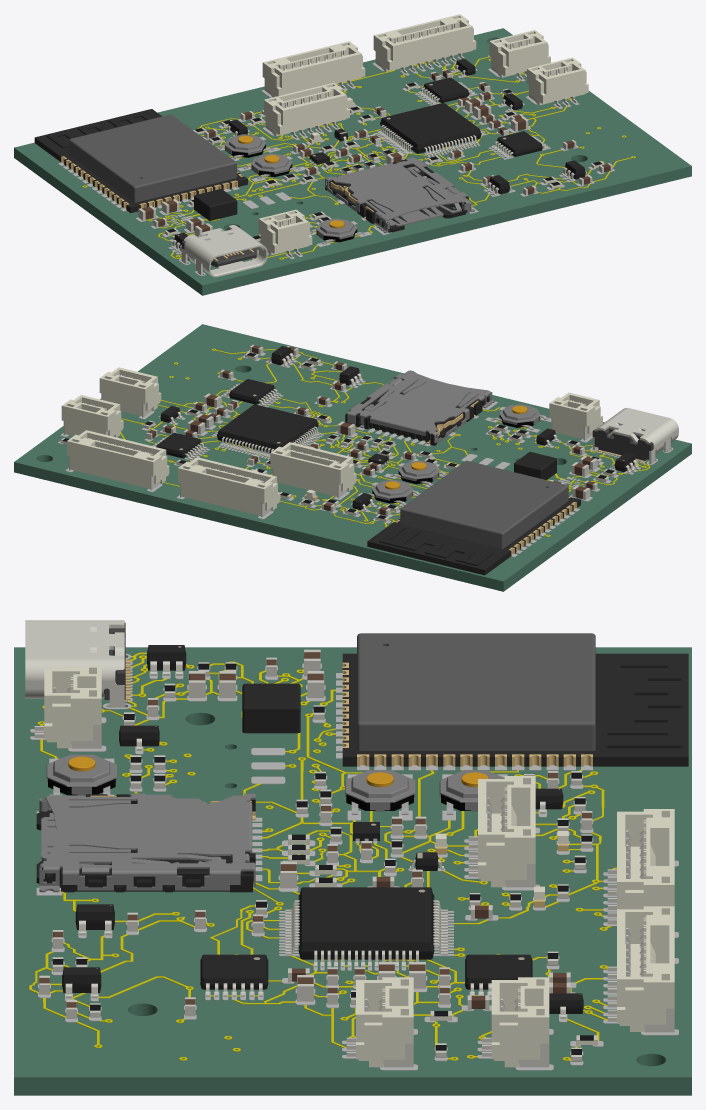
File: main.glb
3 views of the same model, one above another, from view 1: azimuth 30°, elevation 25°; view 2: azimuth 150°, elevation 25°; view 3: azimuth 270°, elevation 25° (orthographic). The views are drawn at different scales.
Visible parts, largest first — view 1: =>[0:1:1:45], =>[0:1:1:41], =>[0:1:1:15] (×2), =>[0:1:1:5], =>[0:1:1:43], =>[0:1:1:37] (×2), =>[0:1:1:42], =>[0:1:1:35], =>[0:1:1:11], =>[0:1:1:31], =>[0:1:1:21] (×3), =>[0:1:1:39] (+2 smaller); view 2: =>[0:1:1:45], =>[0:1:1:41], =>[0:1:1:15] (×2), =>[0:1:1:5], =>[0:1:1:43], =>[0:1:1:37] (×2), =>[0:1:1:42], =>[0:1:1:35], =>[0:1:1:11], =>[0:1:1:31], =>[0:1:1:21] (×3), =>[0:1:1:39] (+2 smaller); view 3: =>[0:1:1:45], =>[0:1:1:41], =>[0:1:1:5], =>[0:1:1:15] (×2), =>[0:1:1:43], =>[0:1:1:42], =>[0:1:1:35], =>[0:1:1:37] (×2), =>[0:1:1:21] (×3), =>[0:1:1:11], =>[0:1:1:31], =>[0:1:1:39] (+5 smaller).
Boxes of the visible parts, bbox=[...] form: =>[0:1:1:45]: bbox=[14, 28, 691, 295]; =>[0:1:1:41]: bbox=[34, 109, 247, 213]; =>[0:1:1:15] (×2): bbox=[262, 14, 476, 97]; =>[0:1:1:5]: bbox=[325, 157, 474, 233]; =>[0:1:1:43]: bbox=[58, 55, 614, 275]; =>[0:1:1:37] (×2): bbox=[489, 30, 588, 107]; =>[0:1:1:42]: bbox=[82, 56, 635, 259]; =>[0:1:1:35]: bbox=[377, 102, 484, 156]; =>[0:1:1:11]: bbox=[264, 82, 349, 138]; =>[0:1:1:31]: bbox=[181, 225, 267, 277]; =>[0:1:1:21] (×3): bbox=[217, 134, 365, 244]; =>[0:1:1:39]: bbox=[258, 209, 312, 257]; =>[0:1:1:45]: bbox=[14, 324, 691, 591]; =>[0:1:1:41]: bbox=[367, 460, 580, 575]; =>[0:1:1:15] (×2): bbox=[67, 430, 280, 517]; =>[0:1:1:5]: bbox=[345, 370, 494, 445]; =>[0:1:1:43]: bbox=[58, 350, 673, 557]; =>[0:1:1:37] (×2): bbox=[61, 367, 161, 437]; =>[0:1:1:42]: bbox=[120, 348, 650, 536]; =>[0:1:1:35]: bbox=[214, 404, 321, 457]; =>[0:1:1:11]: bbox=[270, 442, 356, 498]; =>[0:1:1:31]: bbox=[592, 408, 678, 463]; =>[0:1:1:21] (×3): bbox=[368, 404, 548, 505]; =>[0:1:1:39]: bbox=[549, 392, 602, 440]; =>[0:1:1:45]: bbox=[14, 647, 691, 1095]; =>[0:1:1:41]: bbox=[342, 633, 688, 766]; =>[0:1:1:5]: bbox=[36, 793, 255, 892]; =>[0:1:1:15] (×2): bbox=[607, 809, 674, 1032]; =>[0:1:1:43]: bbox=[30, 653, 678, 1070]; =>[0:1:1:42]: bbox=[29, 652, 616, 1061]; =>[0:1:1:35]: bbox=[285, 887, 447, 967]; =>[0:1:1:37] (×2): bbox=[346, 977, 549, 1067]; =>[0:1:1:21] (×3): bbox=[46, 754, 504, 814]; =>[0:1:1:11]: bbox=[468, 776, 535, 887]; =>[0:1:1:31]: bbox=[25, 620, 130, 707]; =>[0:1:1:39]: bbox=[34, 665, 101, 748].
Size of the model in its own units: 0.075 by 0.00583 by 0.05.
